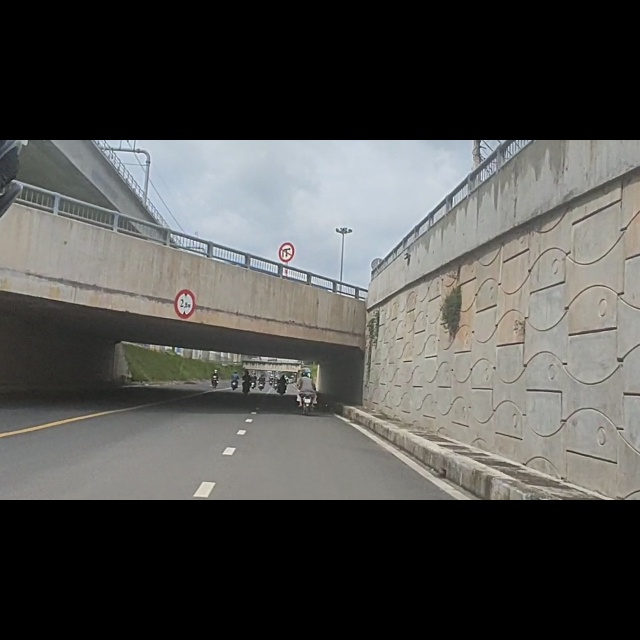bien_cam: (173, 264, 197, 319), (279, 181, 295, 217)
